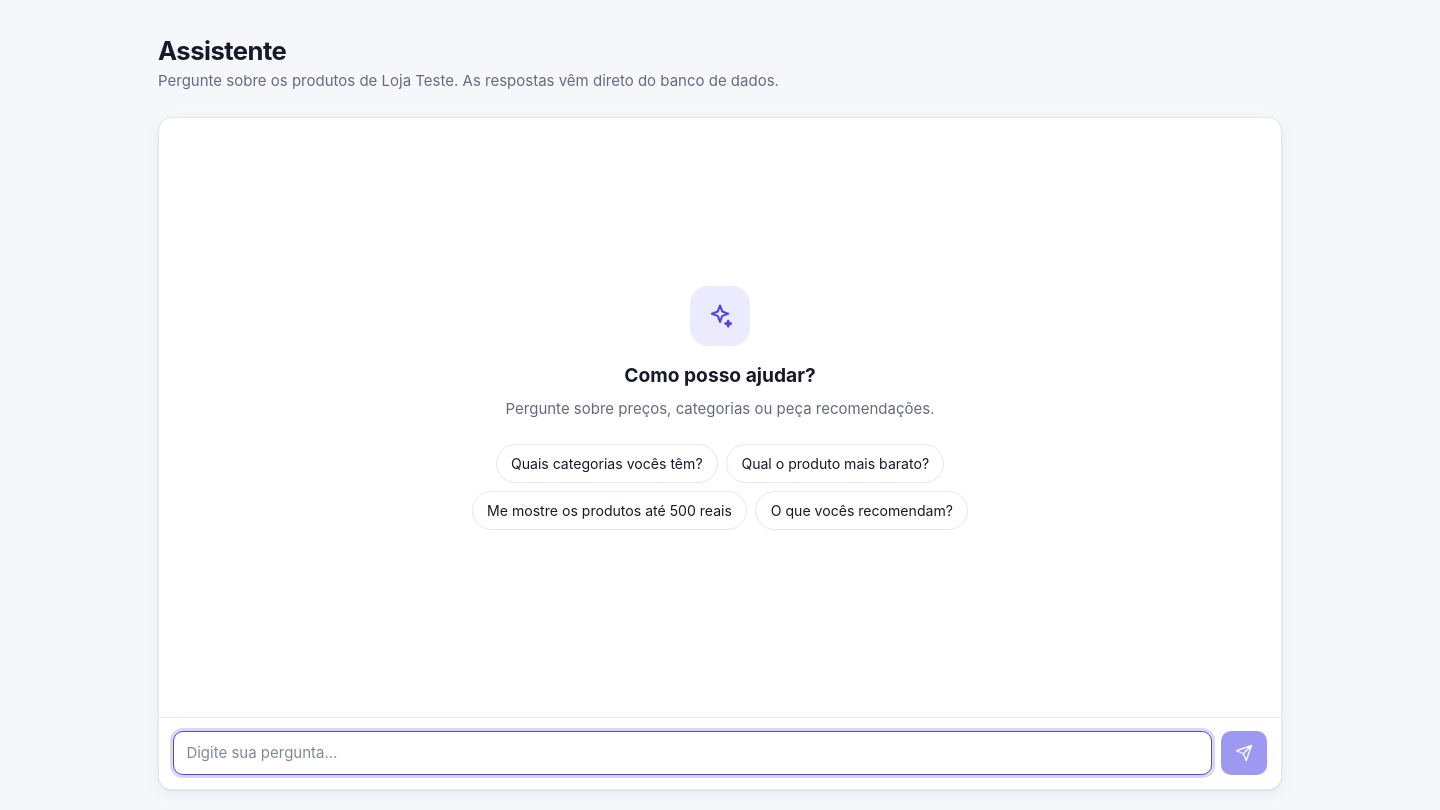
Test: ChatPage › mostra a resposta em streaming e a consulta feita ao banco
Type "tem cadeira?" into the text box named "Mensagem" at (692, 753), box [173, 731, 1212, 775]
Then press Enter
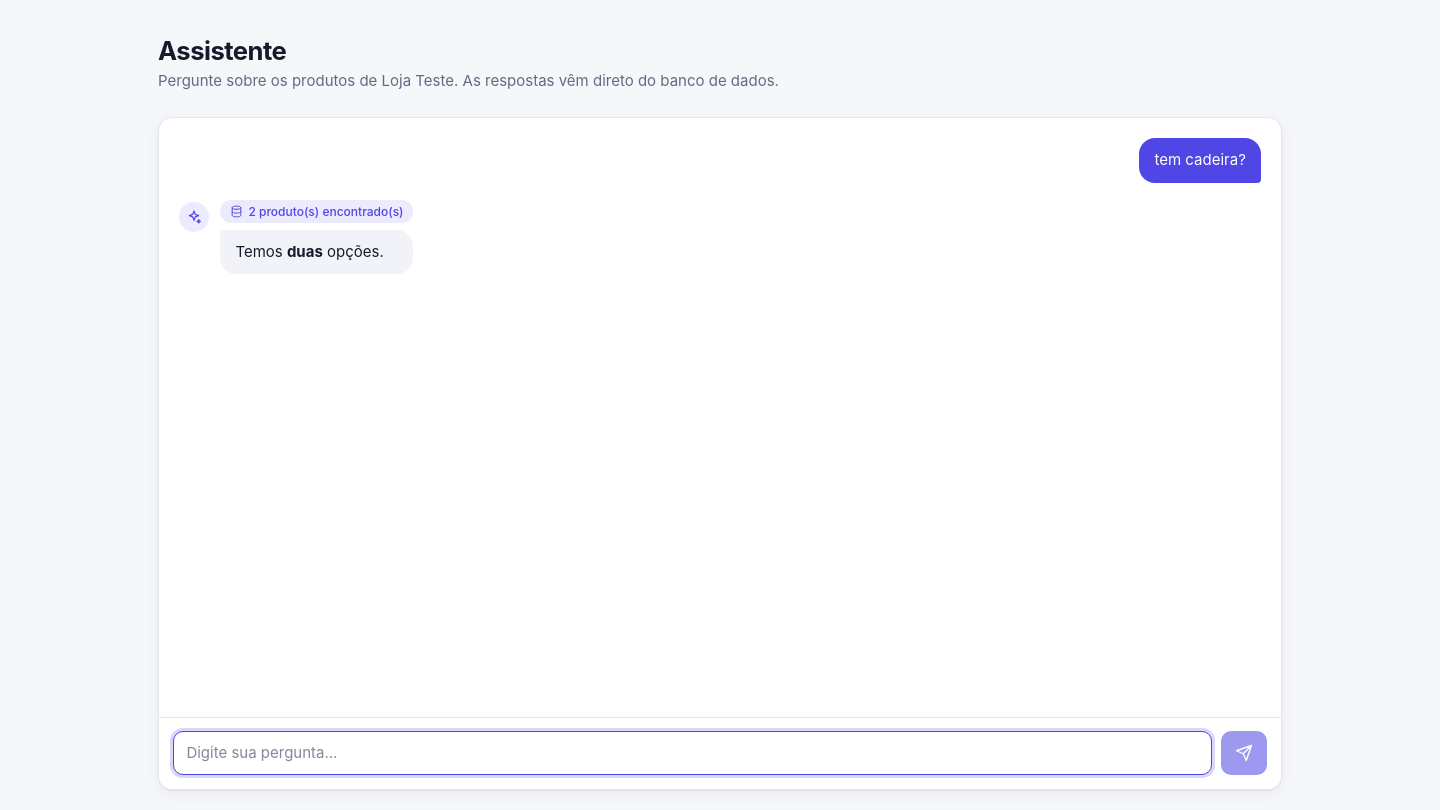
Now the text "tem cadeira?" is shown, box [1139, 138, 1261, 183]
Now the text "2 produto(s) encontrado(s)" is shown, box [220, 200, 413, 223]
Now the text "duas" is shown, box [287, 242, 323, 261]
